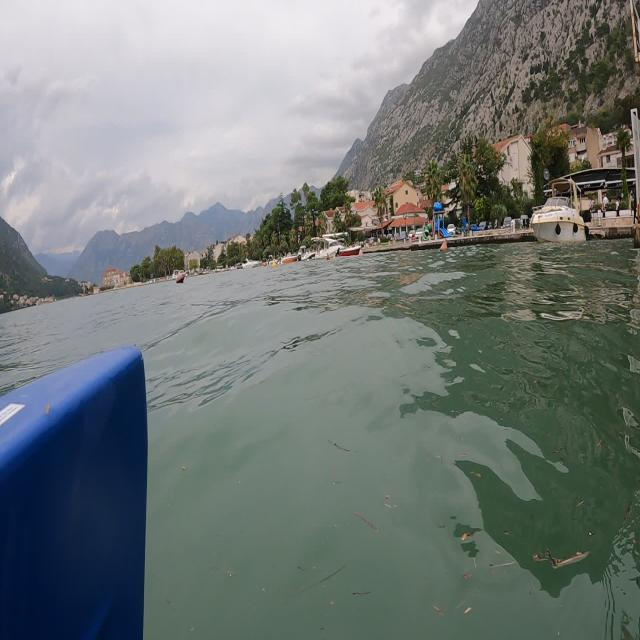boat: (524, 169, 594, 255)
buoy: (172, 269, 189, 289)
